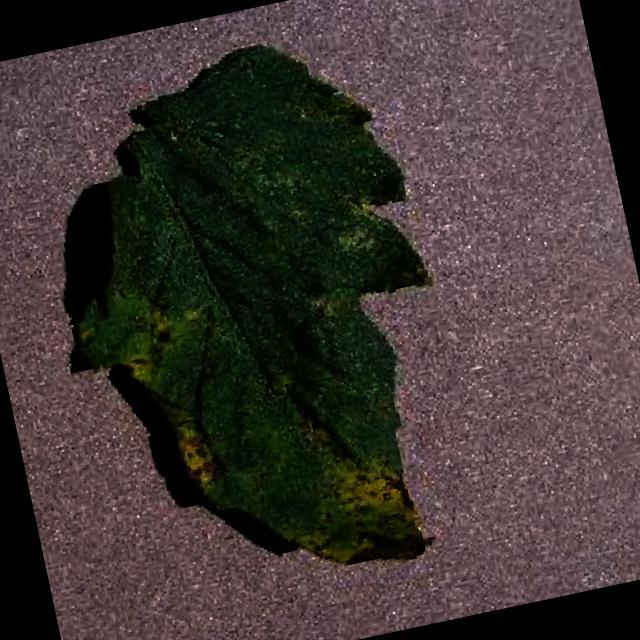Tomato Septoria spot leaf: (23, 15, 486, 615)
